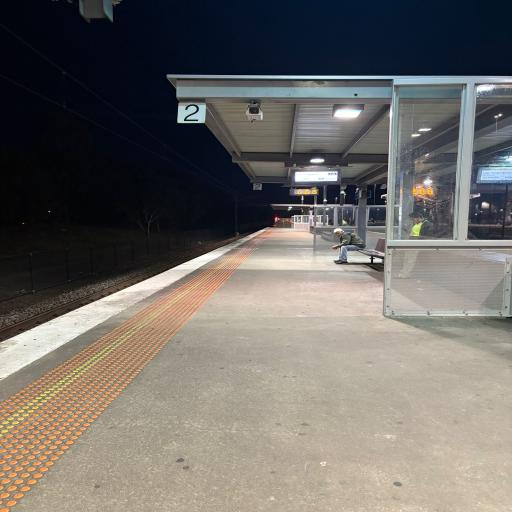clear_path: (12, 235, 452, 499)
platform_edge: (4, 231, 261, 373)
tgsi: (7, 229, 273, 506)
